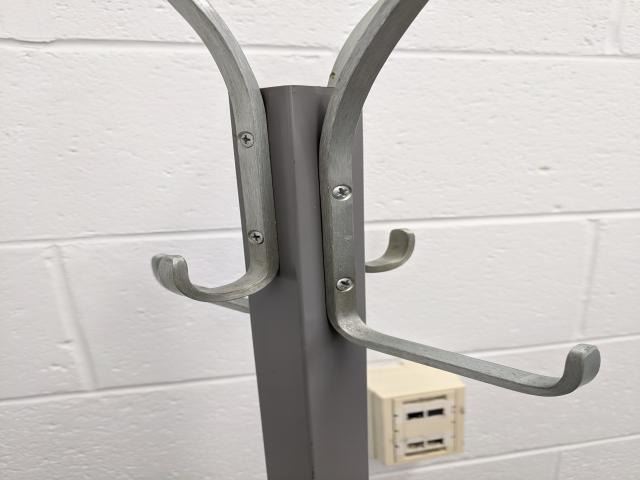CRS: (329, 184, 352, 203), (239, 131, 255, 148), (247, 230, 265, 243), (338, 277, 352, 293)
